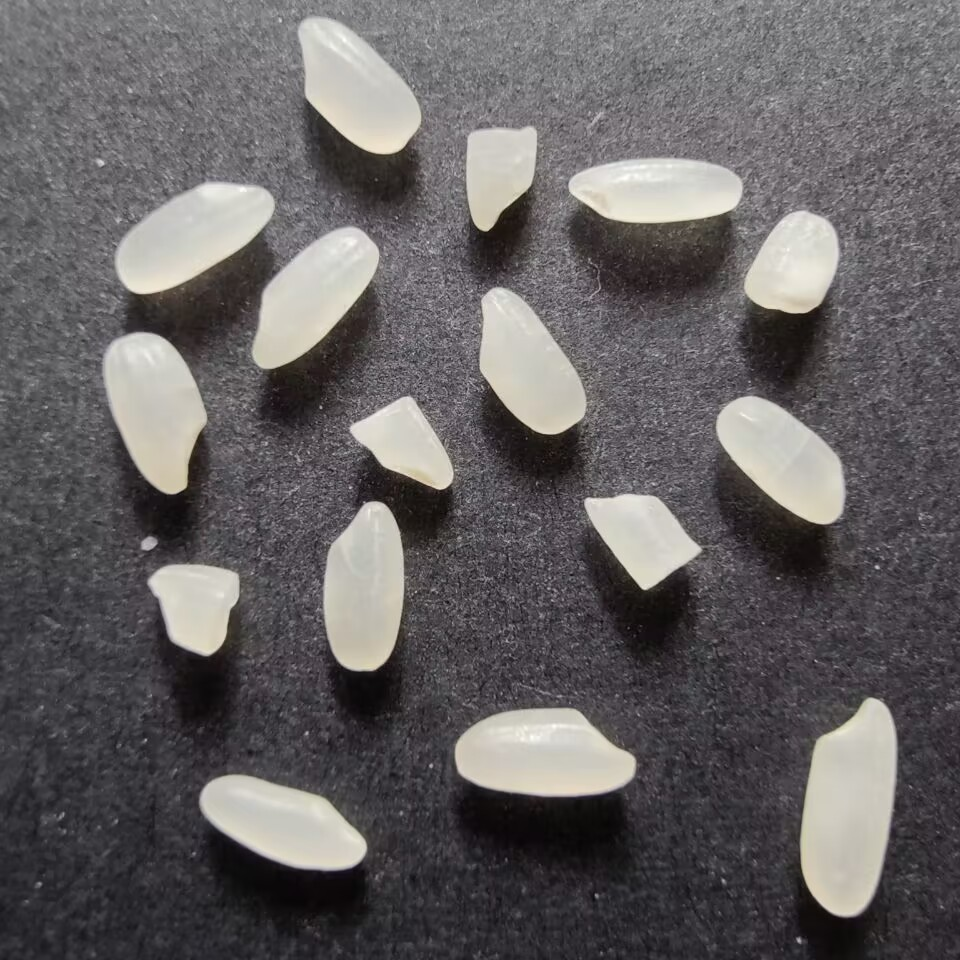broken: (578, 489, 709, 594), (741, 204, 843, 320), (343, 391, 458, 492), (146, 557, 243, 667), (461, 121, 542, 234)
rice: (797, 692, 901, 917), (244, 225, 383, 374), (112, 175, 276, 298), (291, 12, 427, 157), (193, 770, 371, 877), (99, 330, 210, 499), (450, 703, 642, 800), (711, 393, 849, 526), (476, 283, 590, 440), (316, 495, 409, 678), (562, 155, 749, 227)
